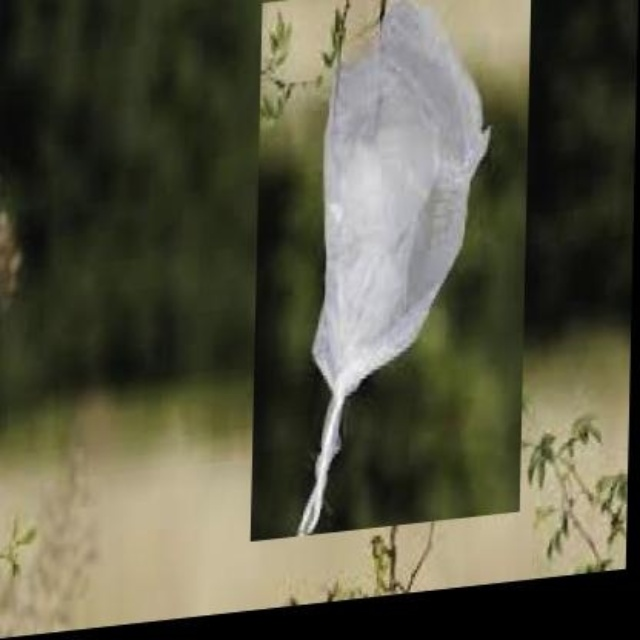trash: (297, 0, 488, 534)
